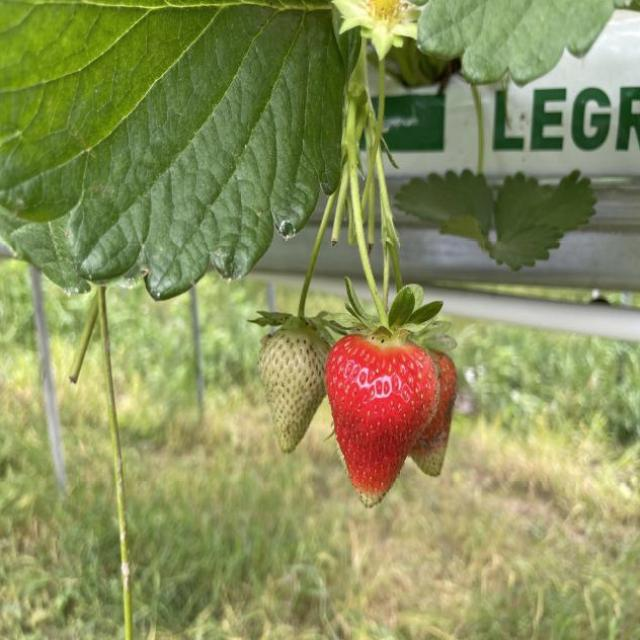stem: (345, 137, 421, 342), (248, 194, 333, 344), (385, 38, 460, 93)
strawberryNR: (258, 327, 328, 452), (410, 351, 457, 476)
strawberryR: (326, 334, 438, 506)
